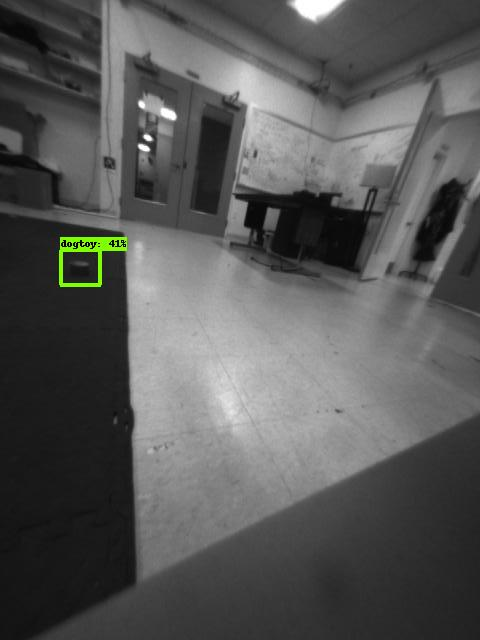dogtoy: (59, 248, 96, 286)
